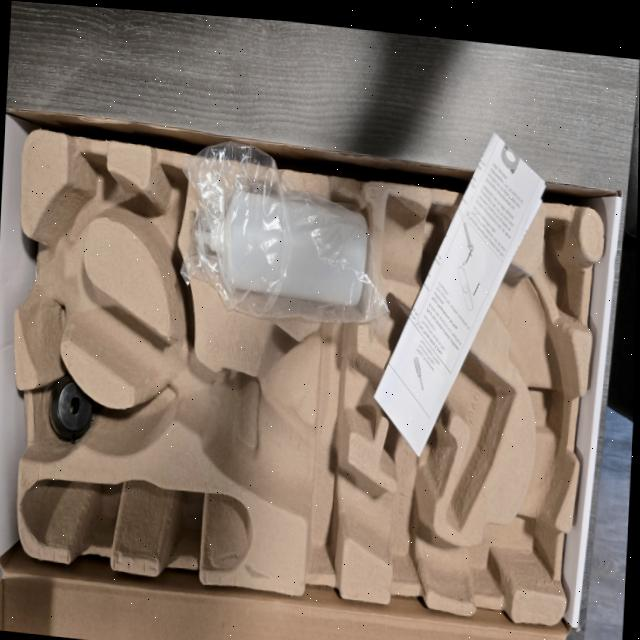1m: (14, 193, 580, 597)
2m: (373, 291, 514, 534)
3: (194, 187, 370, 307)
4m: (20, 479, 253, 569)
5: (49, 377, 93, 444)
6m: (48, 148, 122, 247)
7m: (123, 163, 190, 288)
8: (373, 129, 545, 456)
